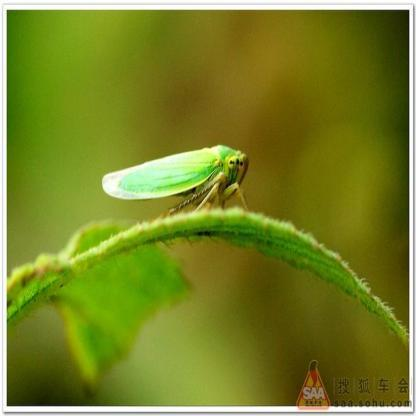green-leafhopper: (98, 143, 252, 215)
